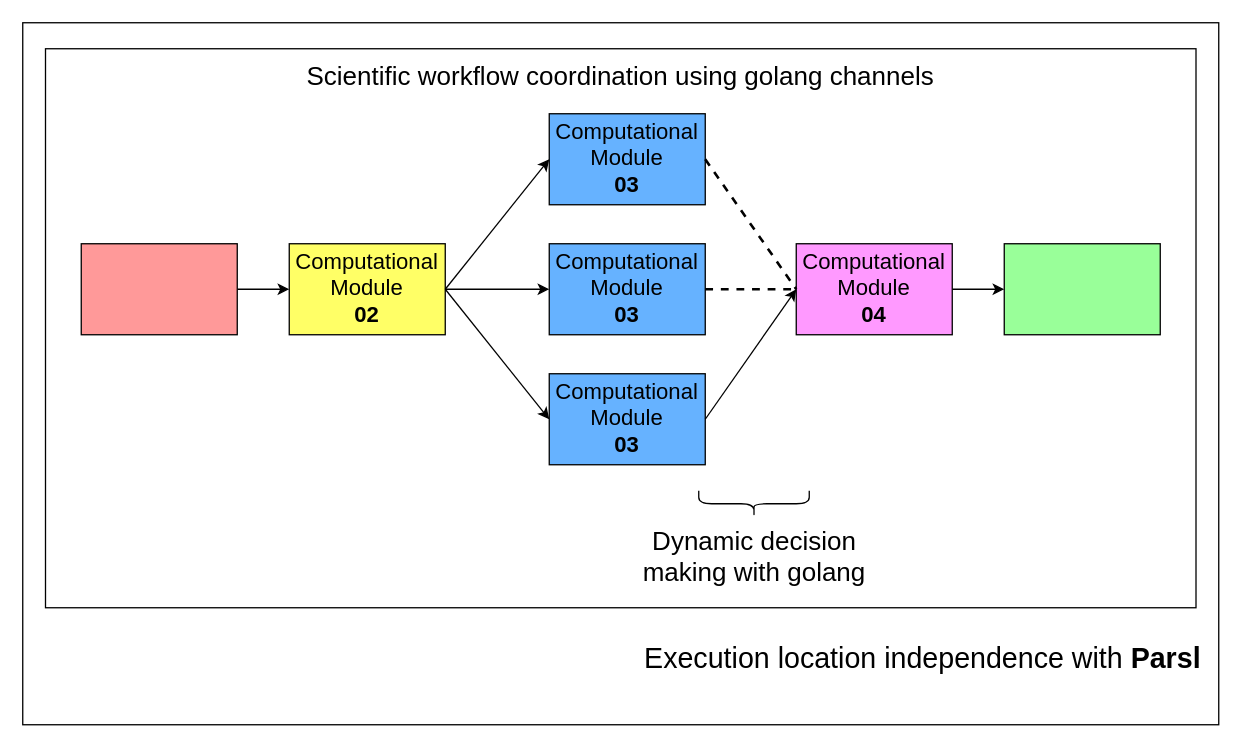
Some shapes in this 1242 by 748 pixel diagram are drawn without their labels. Here are the shapes that lost their labels. From the top down, the centre of each, then its label:
At (158,288): "Computational Module 01".
At (1081,288): "Computational Module 05".
